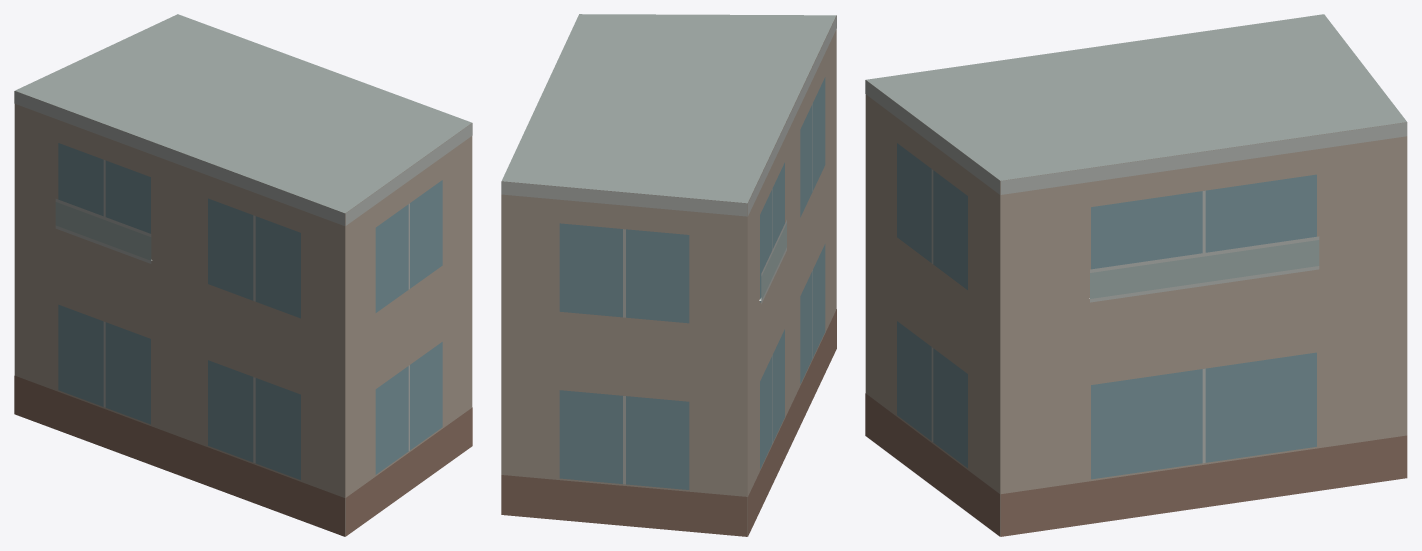
The model's file is survey-upis-32522424.glb.
The picture shows the model from 3 angles, left to right: view 1: azimuth 30°, elevation 25°; view 2: azimuth 150°, elevation 25°; view 3: azimuth 270°, elevation 25°; orthographic projection. The views are drawn at different scales.
Visible parts, largest first — view 1: survey-upis-32522424.tmp; view 2: survey-upis-32522424.tmp; view 3: survey-upis-32522424.tmp.
Boxes of the visible parts, bbox=[...] form: survey-upis-32522424.tmp: bbox=[14, 14, 472, 536]; survey-upis-32522424.tmp: bbox=[501, 14, 836, 536]; survey-upis-32522424.tmp: bbox=[865, 14, 1407, 536].
Size of the model in its own units: 6.14 by 6.1 by 8.42.
